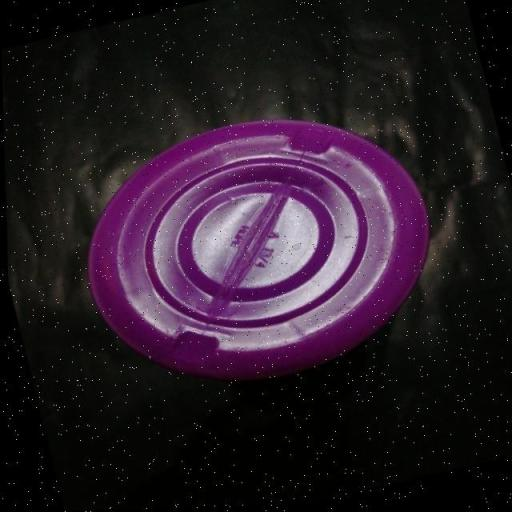plastic: (13, 61, 504, 458)
